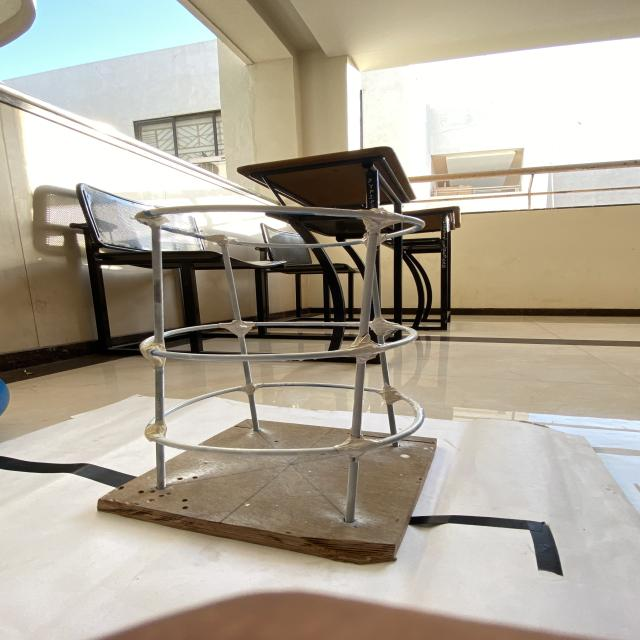silo: (117, 203, 447, 559)
